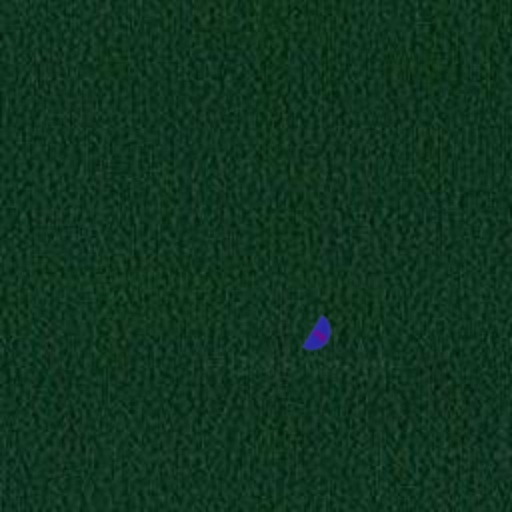semicircle: (292, 308, 348, 364)
